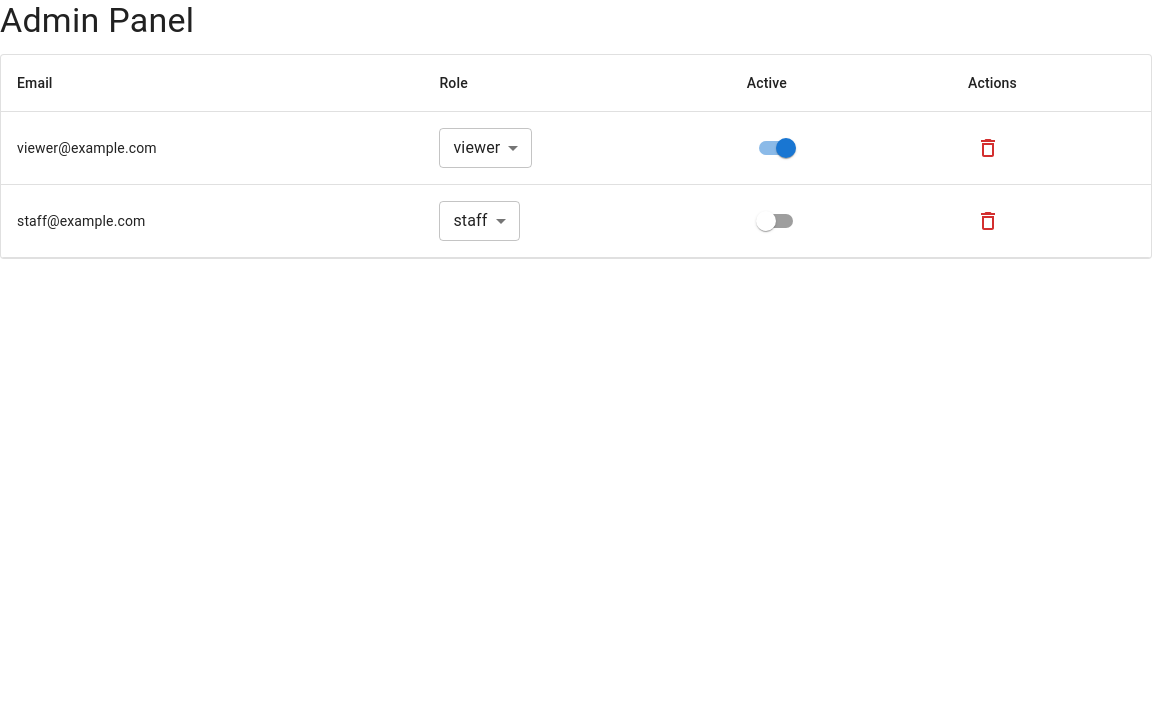
Test: AdminPage › deletes a user after confirmation and removes the row
The width and height of the screenshot is (1152, 720).
Click the button named "Delete staff@example.com" at (988, 221), box [968,201,1008,241]
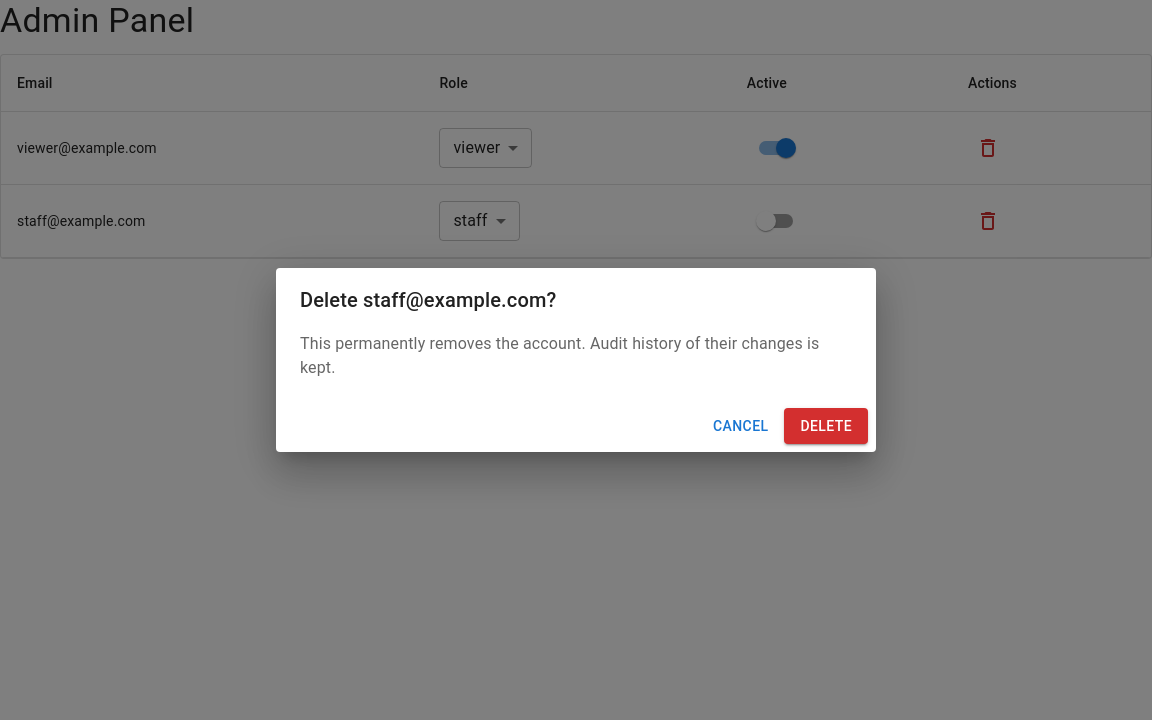
Now the heading "Delete staff@example.com?" is shown, box [300,288,556,312]
Click the button "Delete" at (826, 426), box [784,408,868,444]
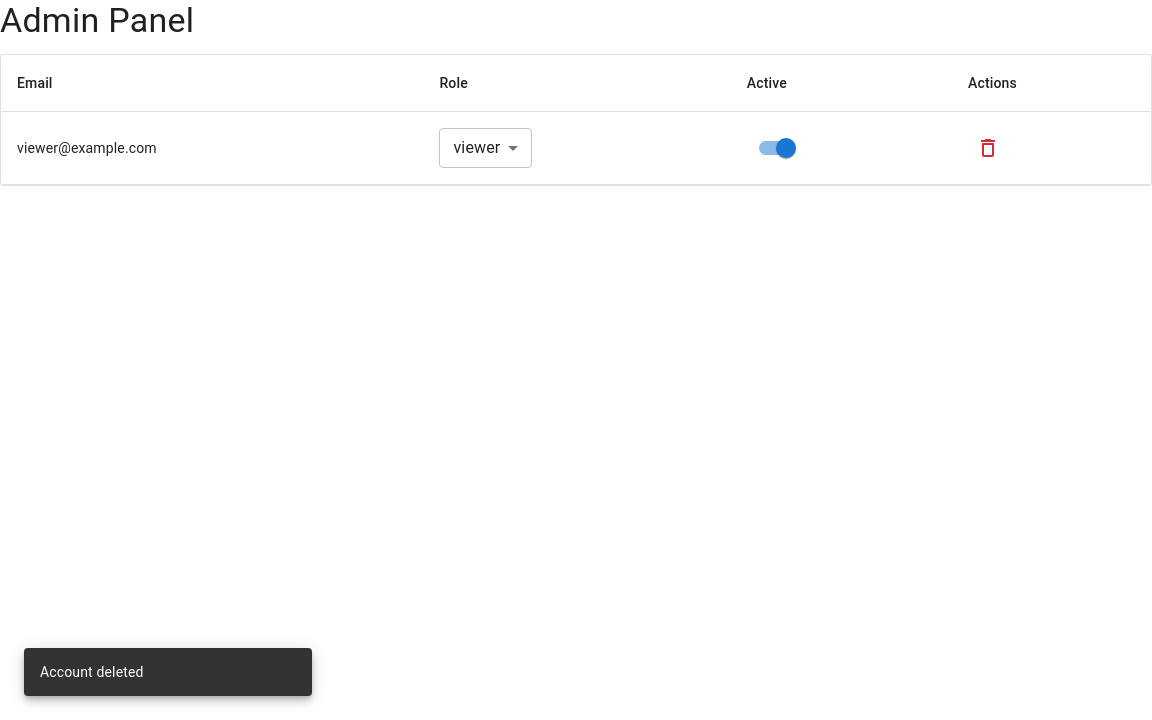
Now the message reads "Account deleted", box [40,664,144,680]
Now the text "staff@example.com" is gone
